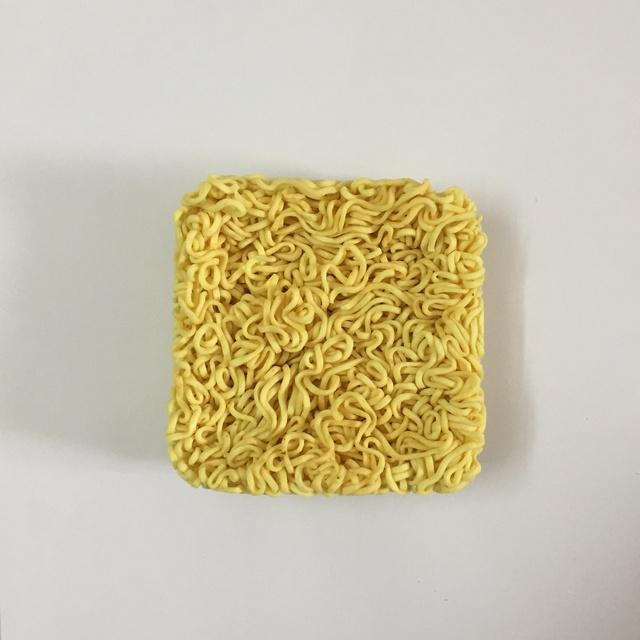noodles: (156, 159, 498, 504)
